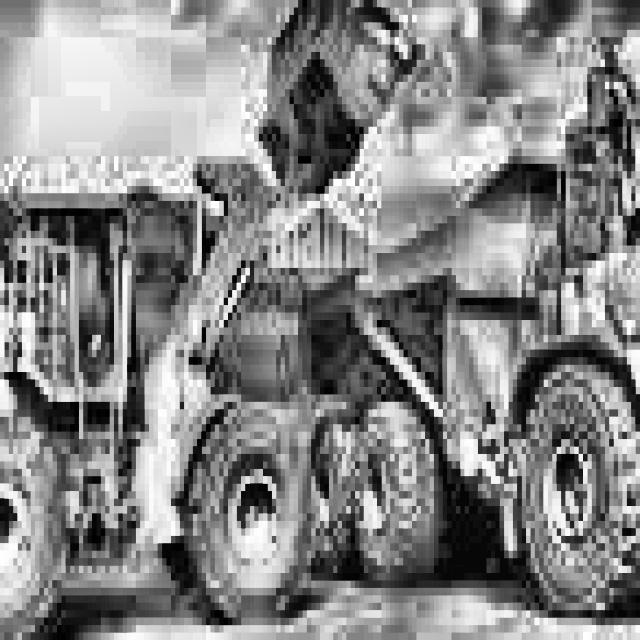buldozerpayloadergrader: (0, 0, 390, 640)
dump_truck: (372, 104, 640, 625)
